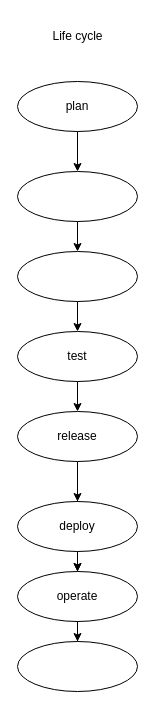
This 155x709 diagram has some shape labels left out. The shapes that lost their labels are listed below. From the top down, each one's centre as x and y in pixels, then its label:
At [77,196]: "develop".
At [77,276]: "build".
At [77,666]: "monitor".
